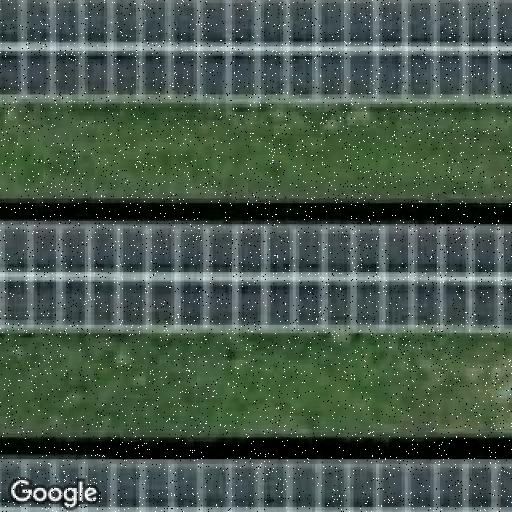solar-panel: (0, 222, 512, 336), (0, 0, 512, 109), (0, 453, 512, 512)
